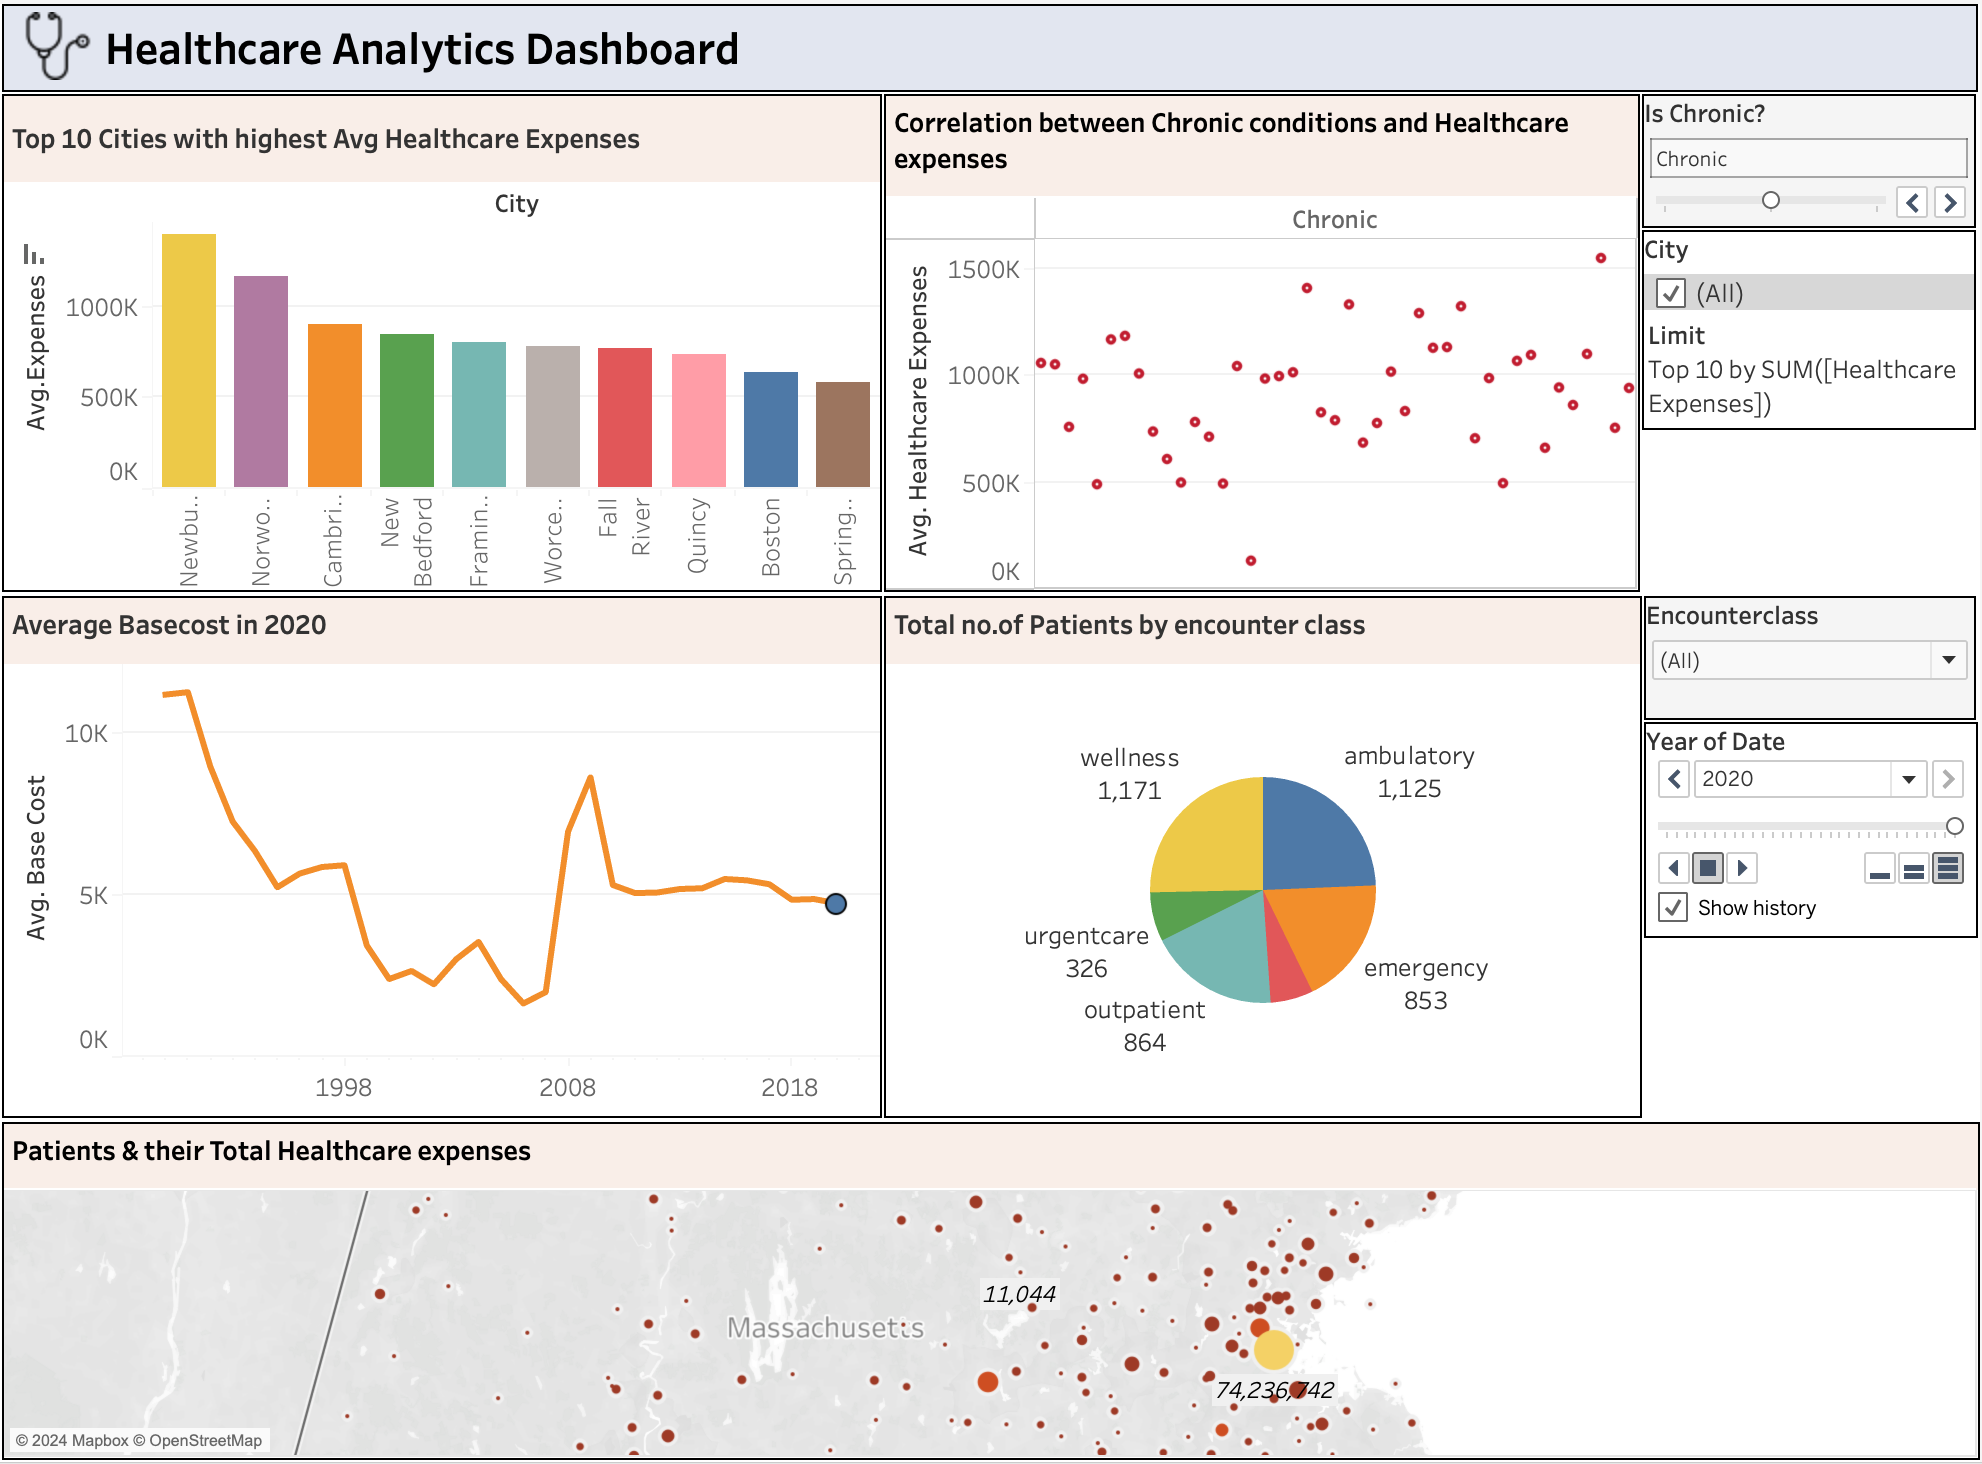

What the dashboard file says about the page in this screenshot:
{"tool":"tableau","page":{"name":"Dashboard 1","canvas":[1000,800],"ordinal":0},"visuals":[{"type":"text","box":[60,1,365,41]},{"type":"image","param":"Image/stethoscope.png","box":[22,4,45,34]},{"type":"worksheet","title":"Top 10 cities","mark":"Automatic","rows":["HEALTHCARE_EXPENSES"],"cols":["CITY"],"box":[11,45,440,249]},{"type":"worksheet","title":"Chronic conditions","mark":"Shape","rows":["HEALTHCARE_EXPENSES"],"cols":["Calculation_4109956929666932739","CODE (ENCOUNTERS)"],"box":[452,45,378,249]},{"type":"filter","title":"Chronic conditions","param":"[federated.0kf4cne1tpnreu13mptq818z5uv9].[none:Calculation_4109956929666932739:n","box":[831,45,167,67]},{"type":"filter","title":"Top 10 cities","param":"[federated.0kf4cne1tpnreu13mptq818z5uv9].[none:CITY:nk]","box":[831,113,167,100]},{"type":"worksheet","title":"Animation showing Basecost ","mark":"Circle","rows":["BASE_COST (PROCEDURES)"],"cols":["DATE (PROCEDURES)"],"box":[11,296,440,261]},{"type":"worksheet","title":"Encounter class","mark":"Pie","box":[452,296,379,261]},{"type":"filter","title":"Encounter class","param":"[federated.0kf4cne1tpnreu13mptq818z5uv9].[none:ENCOUNTERCLASS:nk]","box":[832,296,166,62]},{"type":"currpage","title":"Animation showing Basecost ","box":[832,359,167,108]},{"type":"worksheet","title":"Geospatial Analysis","mark":"Automatic","rows":["LAT"],"cols":["LON"],"box":[11,559,989,169]}]}

Visuals, with their boxes on the page's 1000x800 design canvas (x1, y1, x2, y2). These are canvas units, not pixel positions in the 1982x1464 screenshot, which may show the page scaled, cropped or inside an application window:
text: BBox(60, 1, 425, 42)
image: BBox(22, 4, 67, 38)
"Top 10 cities" worksheet: BBox(11, 45, 451, 294)
"Chronic conditions" worksheet (Shape marks): BBox(452, 45, 830, 294)
"Chronic conditions" filter: BBox(831, 45, 998, 112)
"Top 10 cities" filter: BBox(831, 113, 998, 213)
"Animation showing Basecost " worksheet (Circle marks): BBox(11, 296, 451, 557)
"Encounter class" worksheet (Pie marks): BBox(452, 296, 831, 557)
"Encounter class" filter: BBox(832, 296, 998, 358)
"Animation showing Basecost " currpage: BBox(832, 359, 999, 467)
"Geospatial Analysis" worksheet: BBox(11, 559, 1000, 728)
